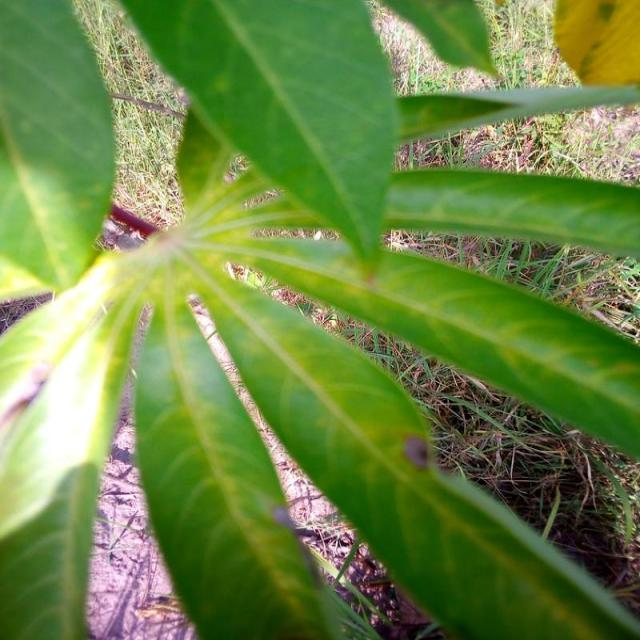cassava leaf: (0, 0, 638, 638), (116, 0, 400, 261)
